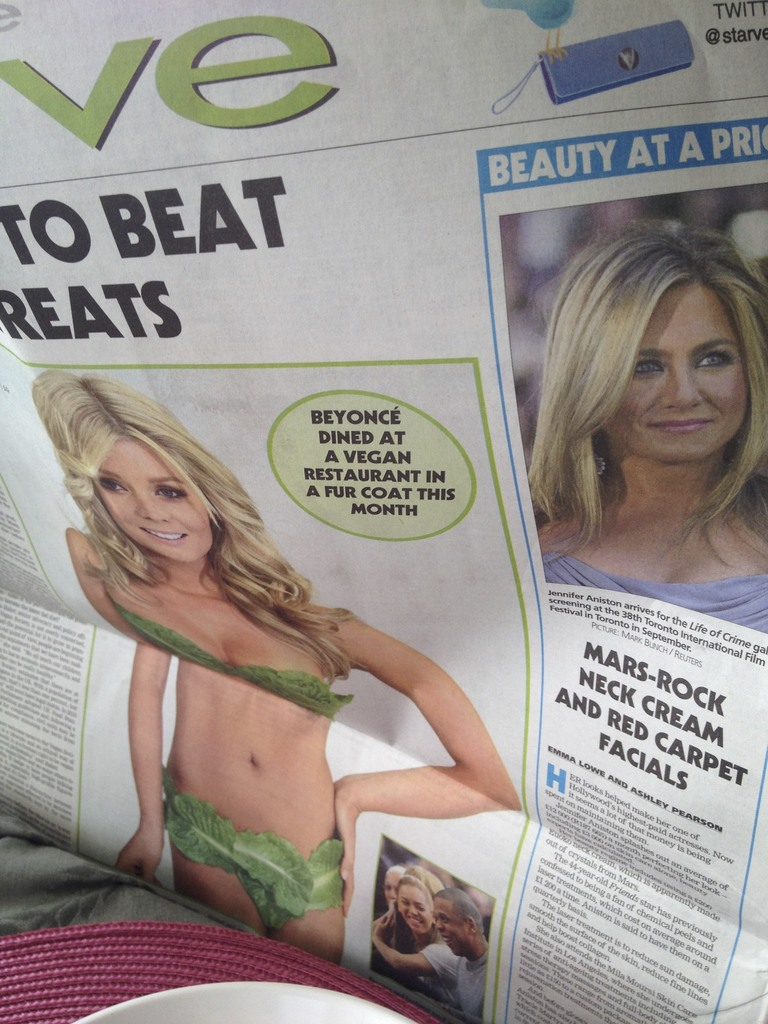Person: (370, 859, 496, 1024)
